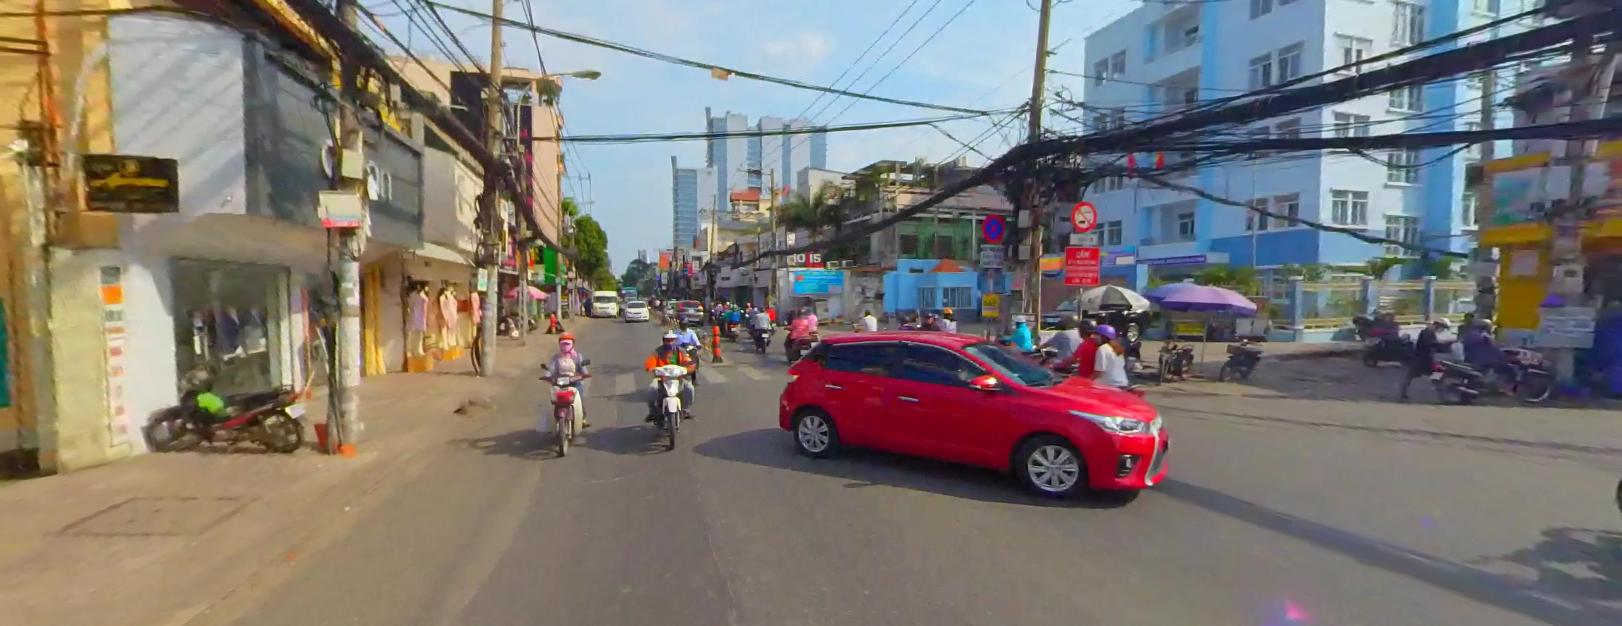Cam con lai: (1071, 200, 1097, 230)
Cam dung va do: (982, 212, 1005, 239)
